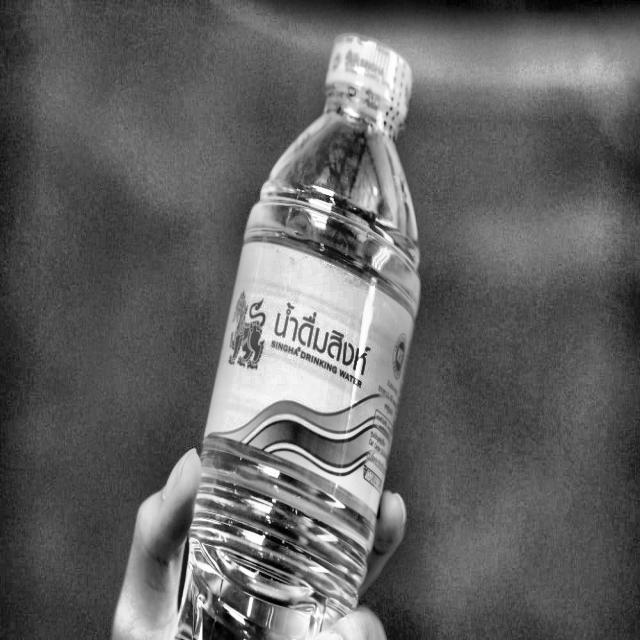waterbottle: (164, 19, 429, 640)
